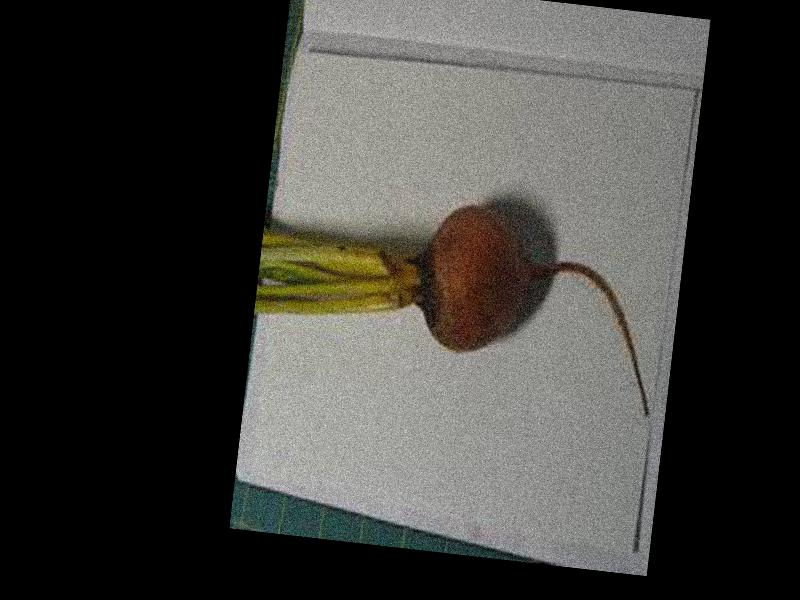Beet: (251, 183, 670, 414)
